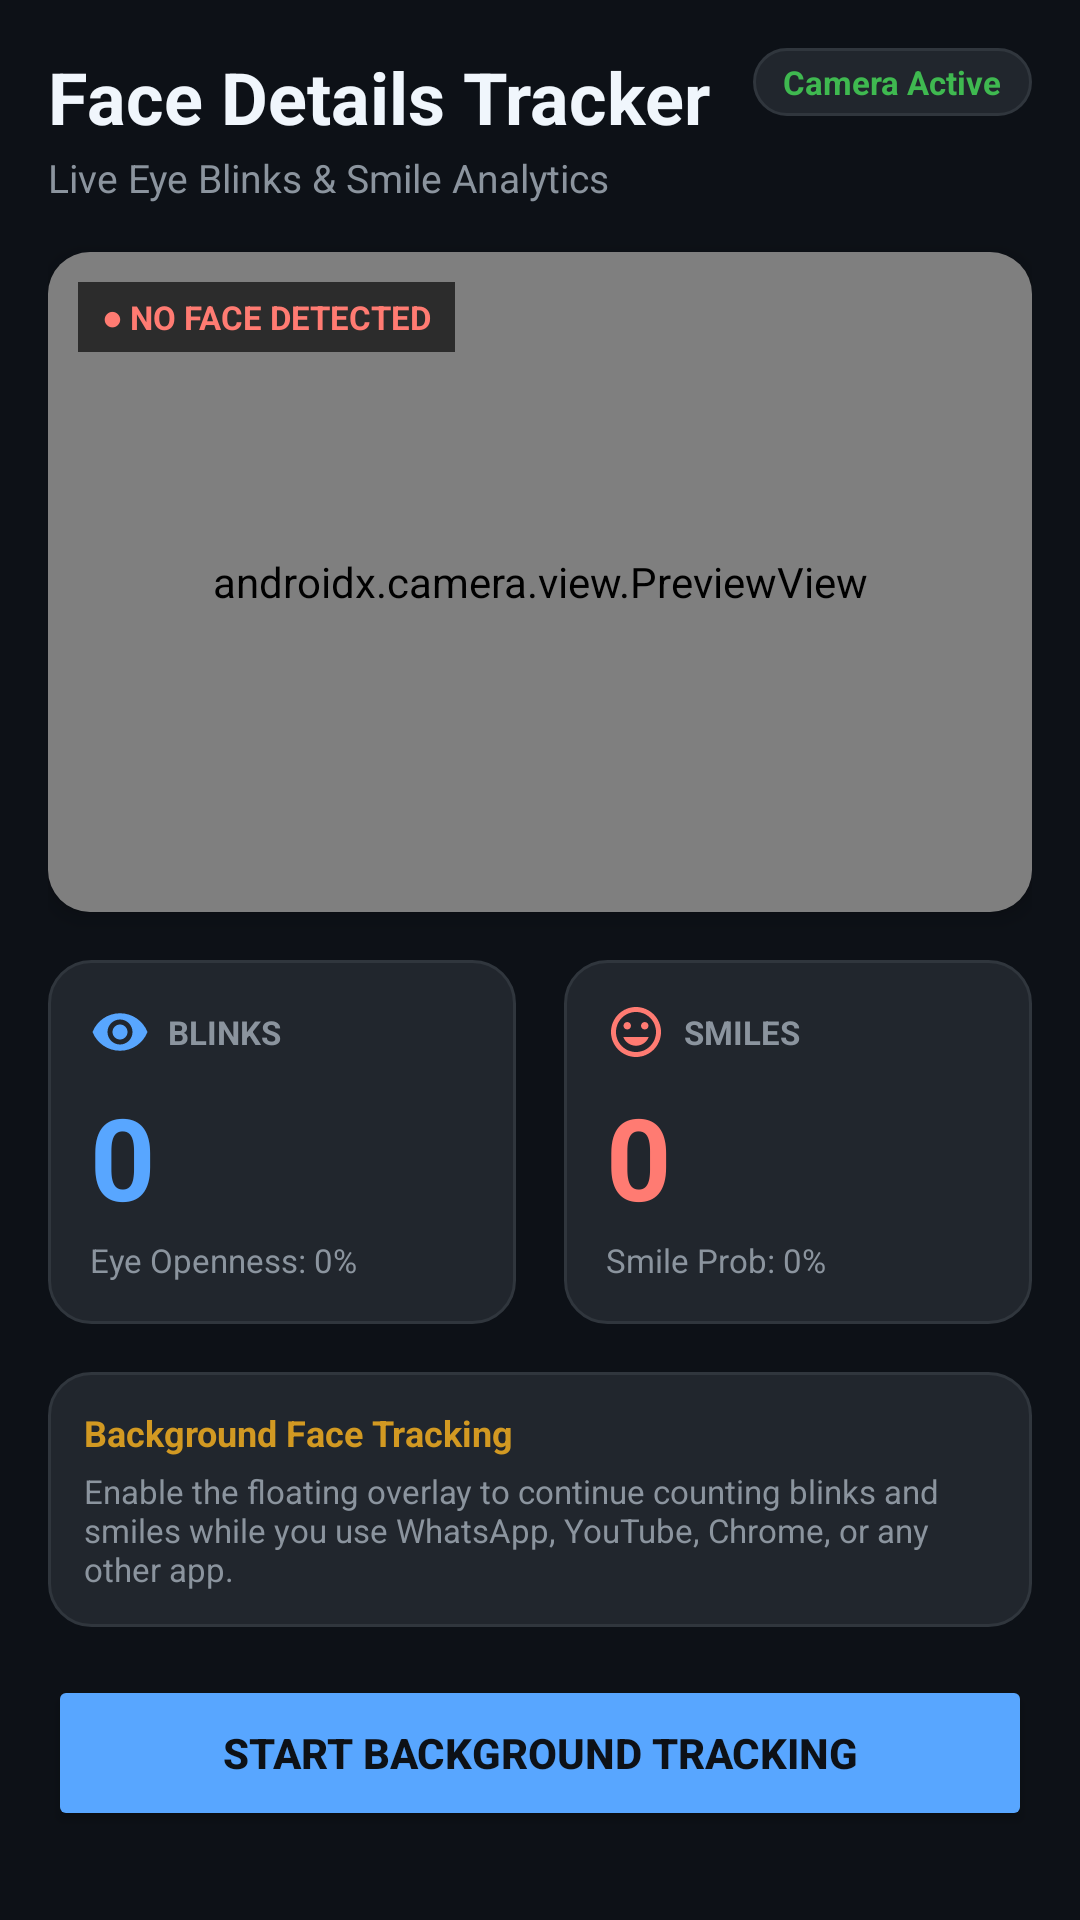

Screen size 1080×1920. Icon name, then its box in pixels as (x1, y1, x2, y2):
eye: (92, 1013, 148, 1051)
